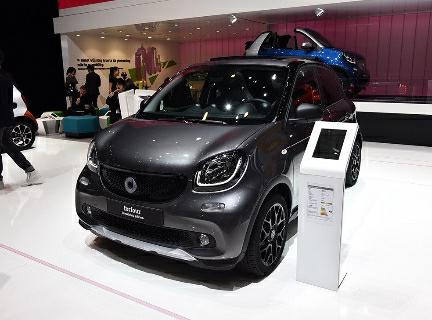smart-forfour: (88, 56, 354, 274)
